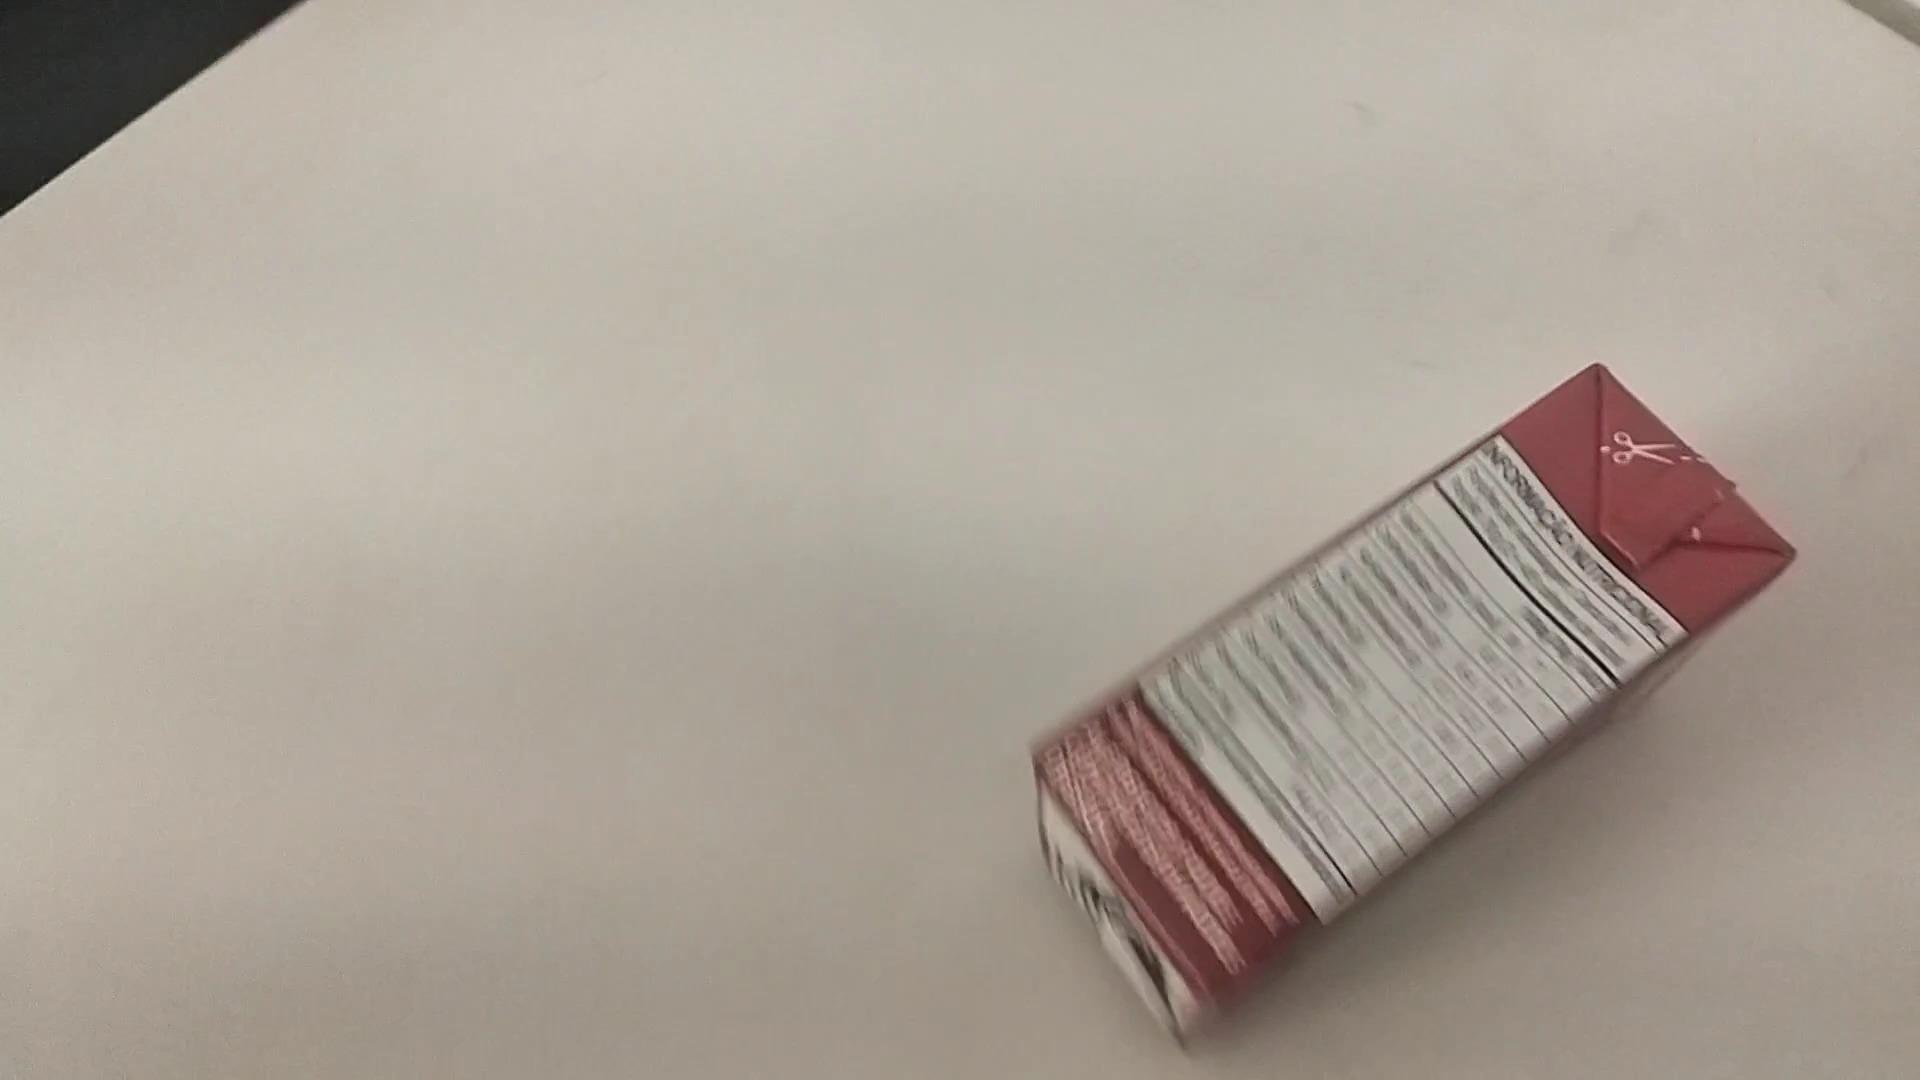tomate: (1044, 380, 1795, 1046)
